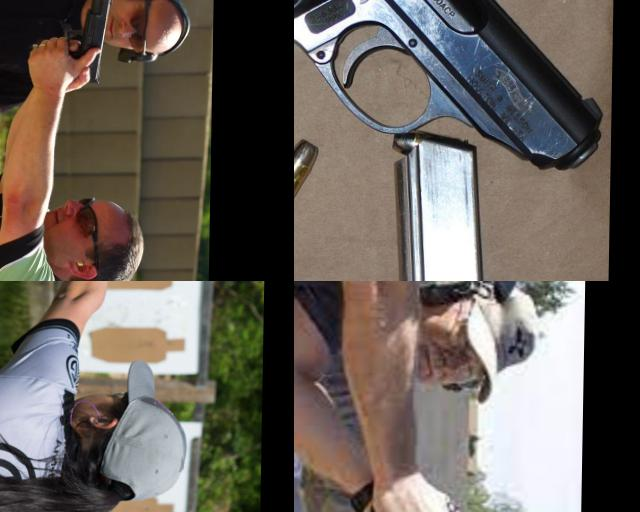handgun: (294, 0, 608, 177), (60, 0, 115, 86), (87, 281, 184, 320), (394, 498, 479, 512)
